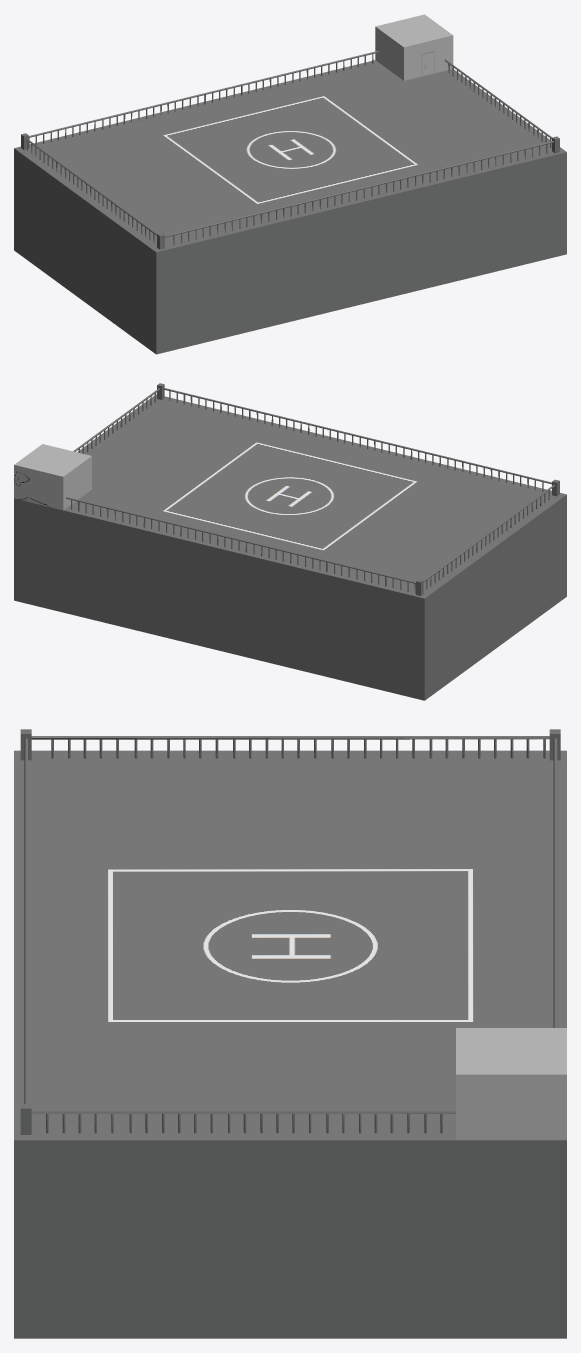
File: Stage3.fbx
3 renders of one model, top to bottom at view 1: azimuth 30°, elevation 25°; view 2: azimuth 150°, elevation 25°; view 3: azimuth 270°, elevation 25°, orthographic. The views are drawn at different scales.
Visible parts, largest first — view 1: 平面, 立方体.001, 立方体.002, 円柱, 立方体; view 2: 平面, 立方体.002, 立方体.001, 円柱, 立方体; view 3: 平面, 立方体.001, 立方体.002, 立方体, 円柱.
Boxes of the visible parts, left/top/right/bottom form: 平面: left=14, top=60, right=566, bottom=252; 立方体.001: left=14, top=148, right=566, bottom=304; 立方体.002: left=14, top=198, right=566, bottom=354; 円柱: left=25, top=51, right=553, bottom=245; 立方体: left=375, top=14, right=453, bottom=80; 平面: left=63, top=394, right=566, bottom=598; 立方体.002: left=14, top=544, right=566, bottom=700; 立方体.001: left=14, top=494, right=566, bottom=650; 円柱: left=66, top=387, right=555, bottom=593; 立方体: left=14, top=444, right=91, bottom=510; 平面: left=14, top=750, right=566, bottom=1139; 立方体.001: left=14, top=1140, right=566, bottom=1242; 立方体.002: left=14, top=1236, right=566, bottom=1338; 立方体: left=456, top=1028, right=566, bottom=1139; 円柱: left=24, top=736, right=557, bottom=1133.
Bounding box in the file's own units: 5000 × 1580 × 3000.
